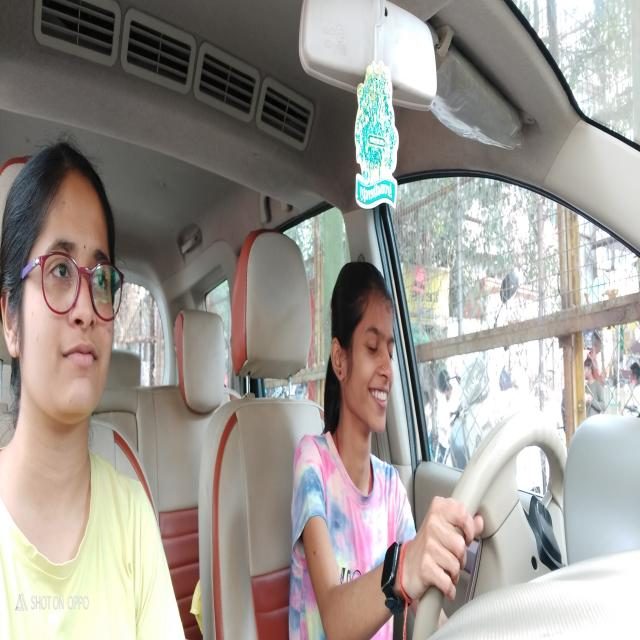drowsy: (330, 261, 398, 444)
person: (4, 137, 123, 435)
